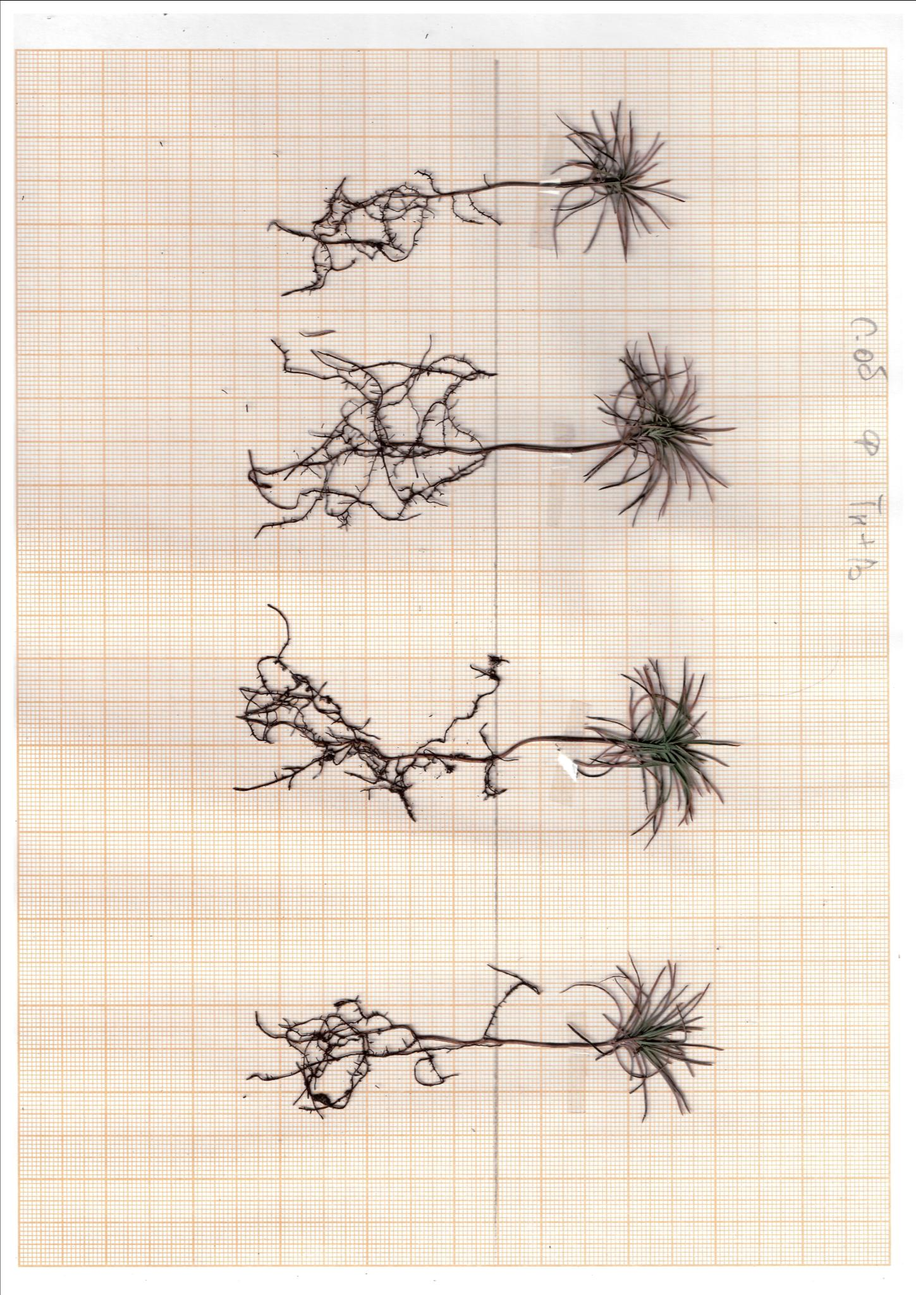Seeding: (226, 600, 740, 850), (237, 322, 737, 541), (254, 101, 685, 298), (244, 955, 727, 1126)
